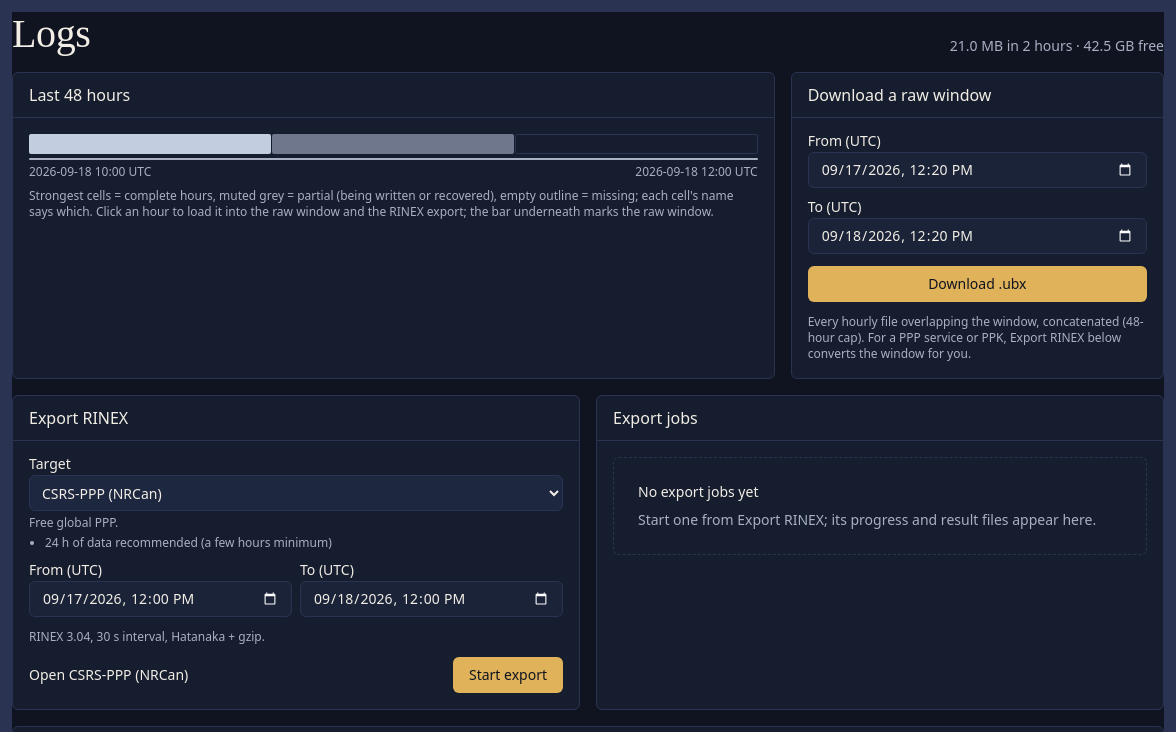
it: Logs page — window download and availability › fills the window form from a clicked hour
This screenshot has width=1176, height=732.
Click the button named "11:00 UTC · partial": coordinates (393, 144) [272, 134, 514, 154]
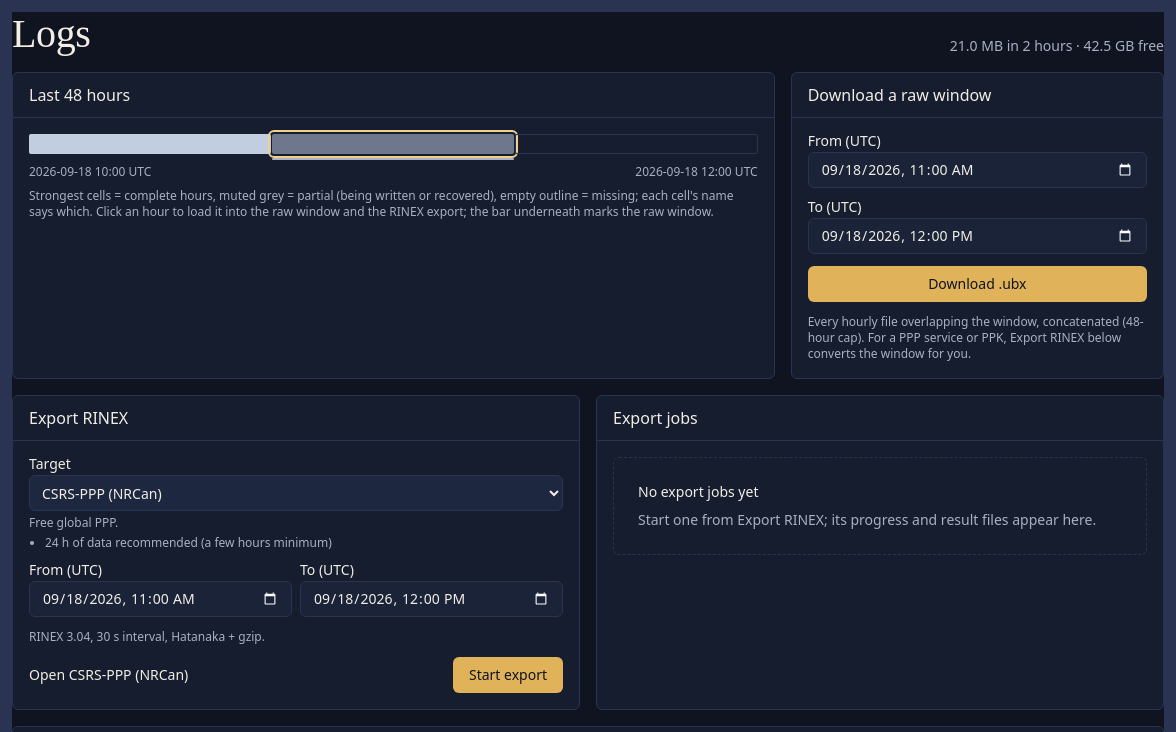
Result: the field labelled "From (UTC)" below "Download a raw window" holds "2026-09-18T11:00" at [808, 152, 1147, 188]
Result: the field labelled "To (UTC)" below "Download a raw window" holds "2026-09-18T12:00" at [808, 218, 1147, 254]
Result: the field labelled "From (UTC)" below "Free global PPP." holds "2026-09-18T11:00" at [29, 581, 292, 617]
